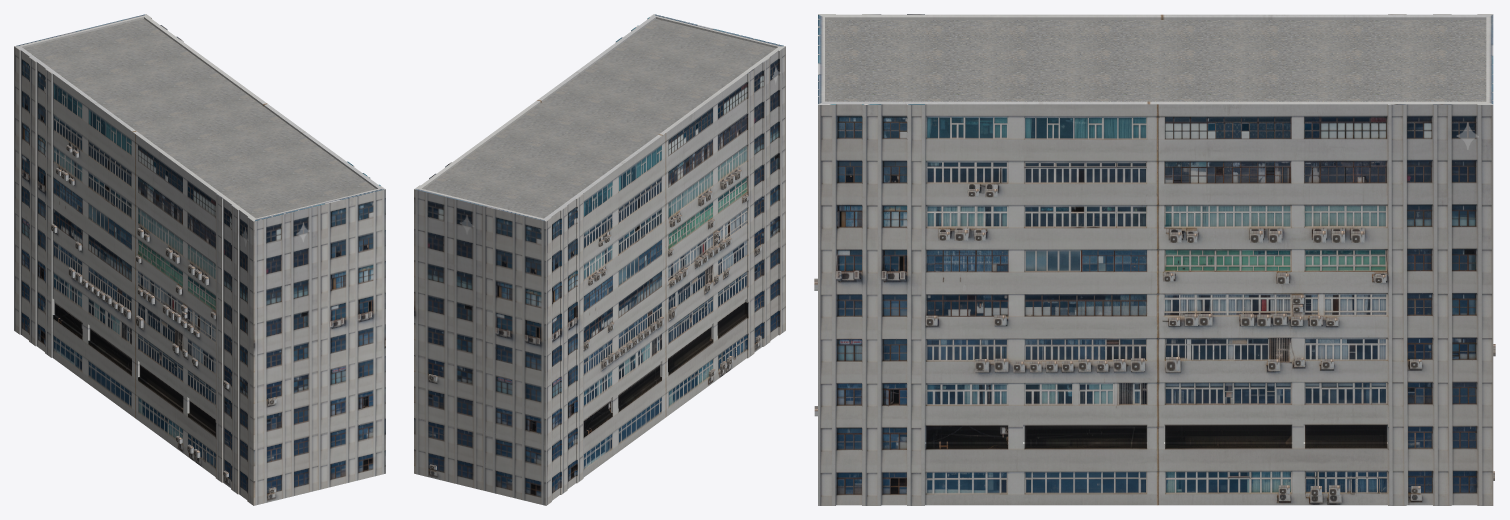
Rendered from BuildingClean.glb.
3 renders of one model, left to right at view 1: azimuth 30°, elevation 25°; view 2: azimuth 150°, elevation 25°; view 3: azimuth 270°, elevation 25°, orthographic. The views are drawn at different scales.
Visible parts, largest first — view 1: Building_building_0; view 2: Building_building_0; view 3: Building_building_0.
Boxes of the visible parts, x1,y1,x2,y2 form: Building_building_0: (14, 14, 385, 505); Building_building_0: (414, 14, 785, 505); Building_building_0: (814, 14, 1495, 505).
Bounding box in the file's own units: 14.04 × 28.04 × 43.19.
Materials: 2 (2 with a texture image).
